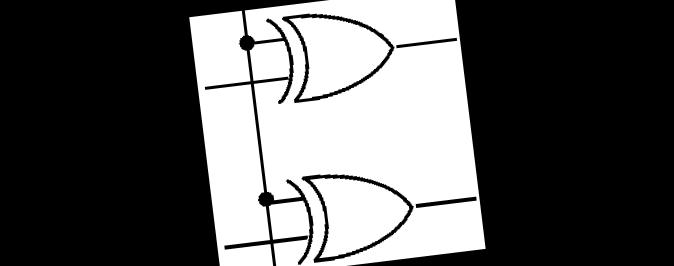xor: (281, 155, 432, 266), (259, 0, 411, 108)
